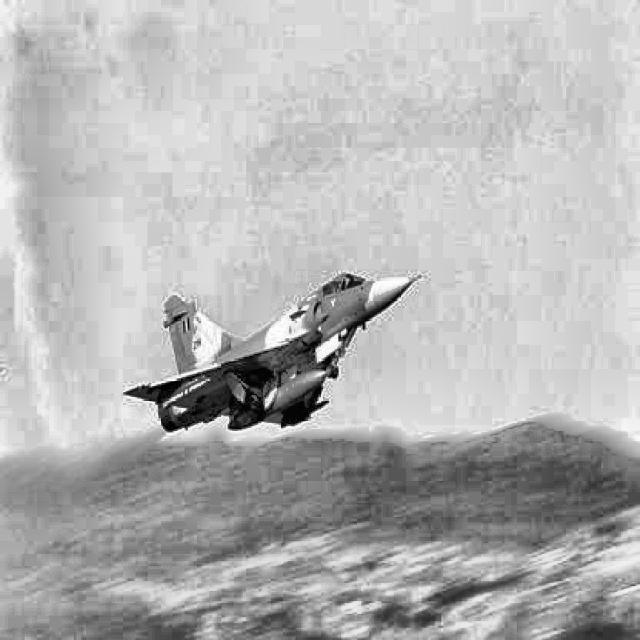Mirage2000: (121, 272, 422, 433)
